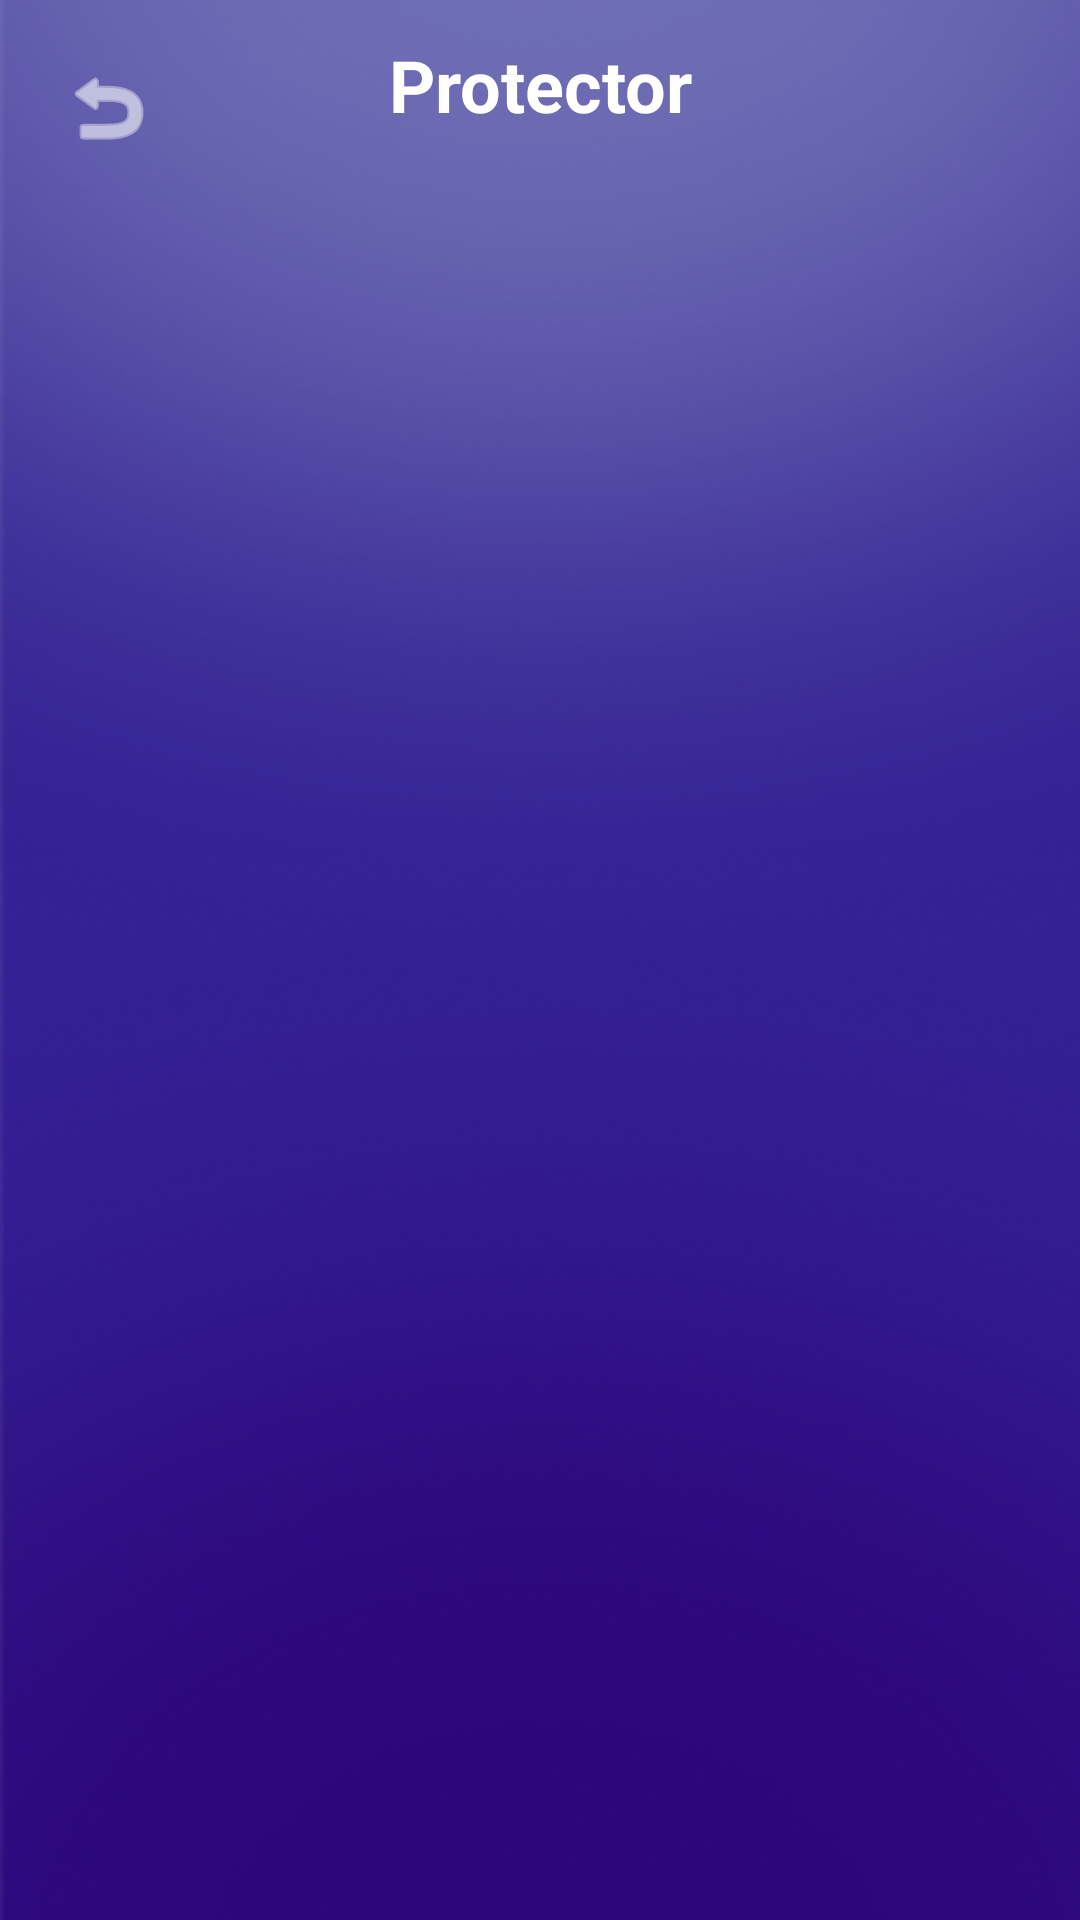

Icons on this 1080px x 1920px Android screen, each with the point to tap as (x=x, y=y):
Kembali: (x=109, y=108)
